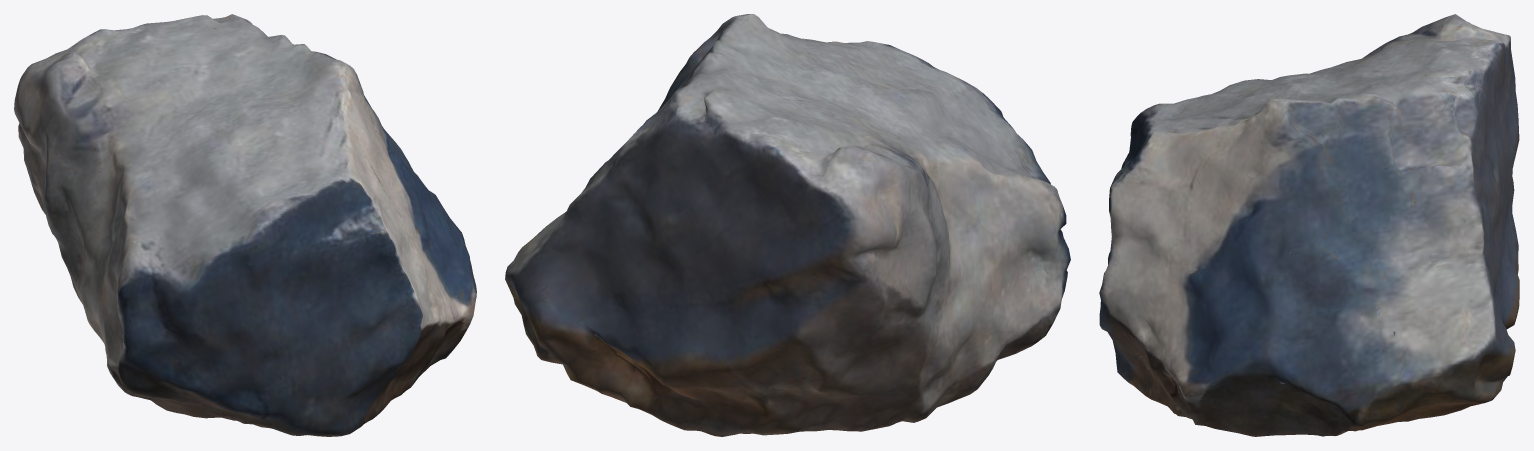
File: Meshy_AI_iron_rock_0224030039_texture.glb
3 views of the same model, side by side, from view 1: azimuth 30°, elevation 25°; view 2: azimuth 150°, elevation 25°; view 3: azimuth 270°, elevation 25° (orthographic). The views are drawn at different scales.
Bounding box in the file's own units: 2 × 1.49 × 1.75.
Materials: 1 (1 with a texture image).
